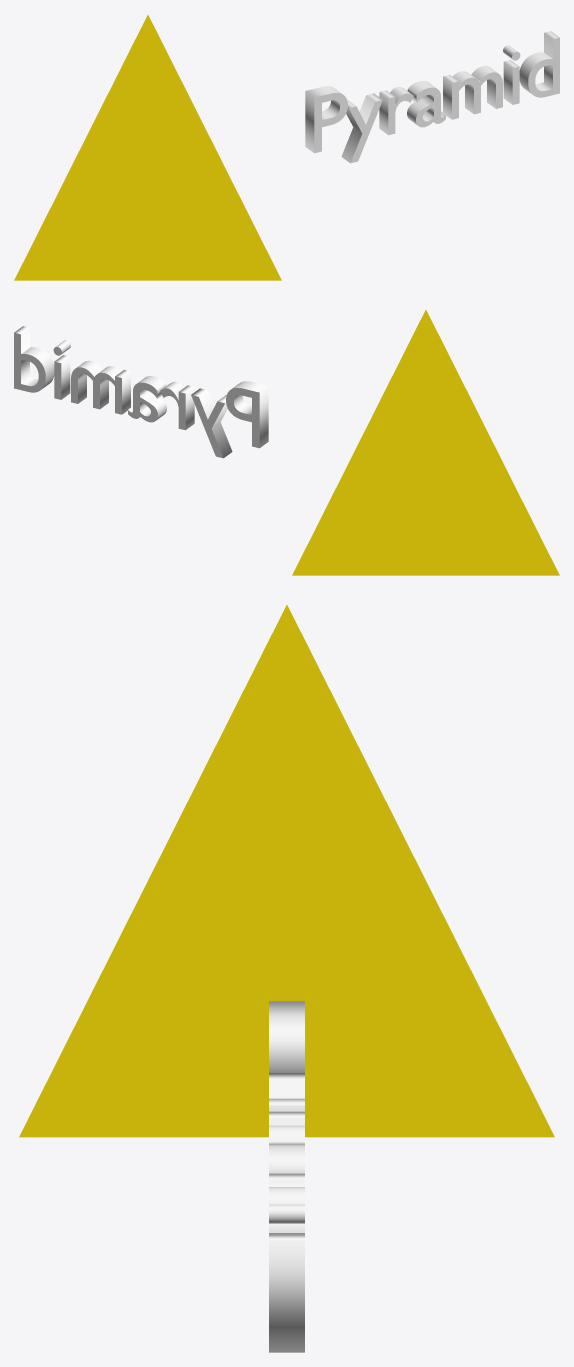
The picture shows the model from 3 angles, top to bottom: view 1: azimuth 30°, elevation 25°; view 2: azimuth 150°, elevation 25°; view 3: azimuth 270°, elevation 25°; orthographic projection. The views are drawn at different scales.
Visible parts, largest first — view 1: Model_6_Pyramid; view 2: Model_6_Pyramid; view 3: Model_6_Pyramid.
Part boxes in pixels (x1,y1,x2,y2): Model_6_Pyramid: [14, 15, 559, 280]; Model_6_Pyramid: [14, 310, 559, 575]; Model_6_Pyramid: [19, 605, 554, 1352].
Size of the model in its own units: 4.85 by 2 by 2.08.
